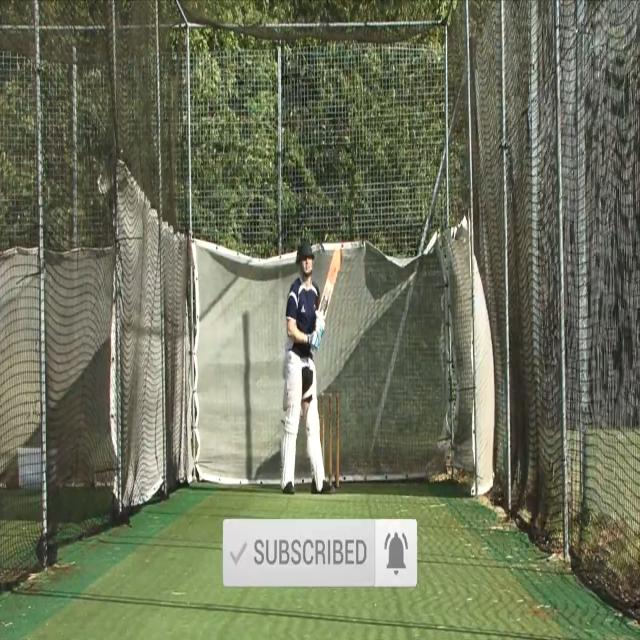batsman: (278, 237, 344, 497)
